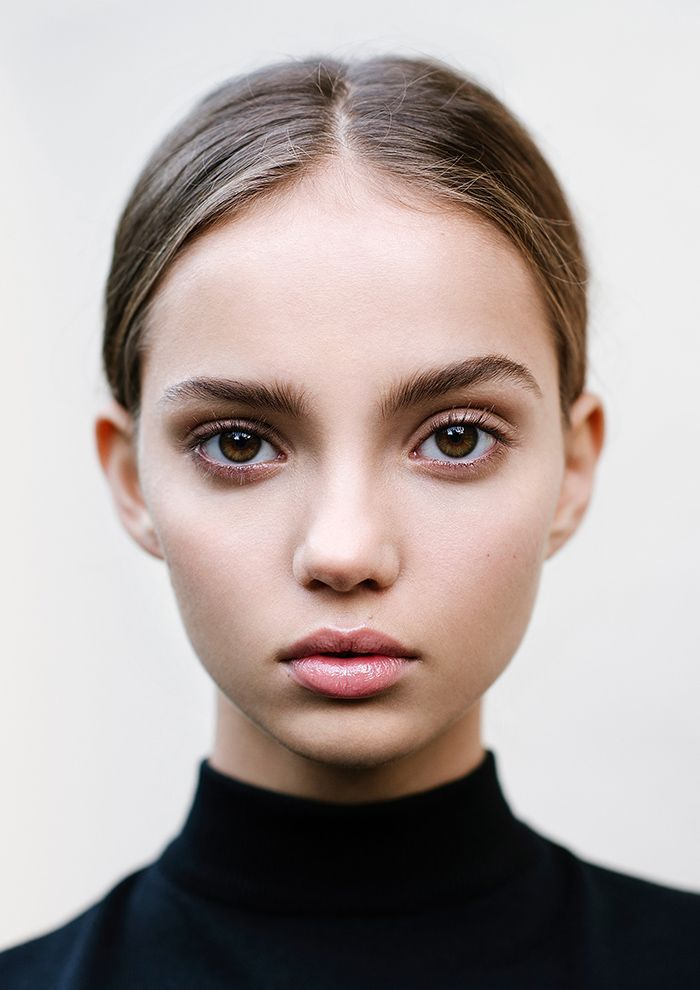without_mask: (138, 213, 540, 734)
